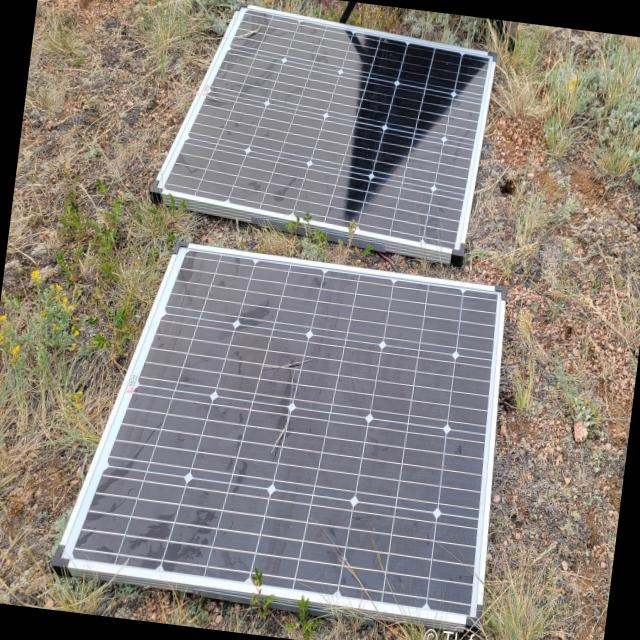faulty: (75, 249, 496, 612), (162, 11, 489, 250)
